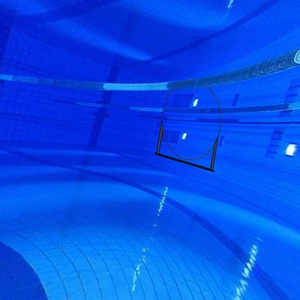circle: (153, 78, 222, 174)
